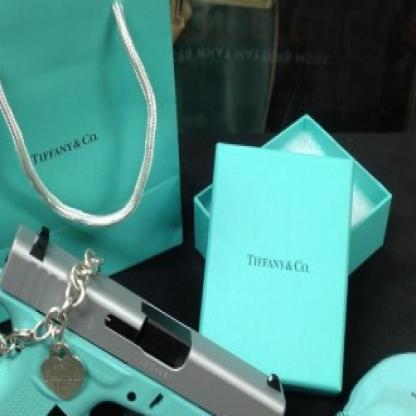gun: (0, 231, 288, 415)
